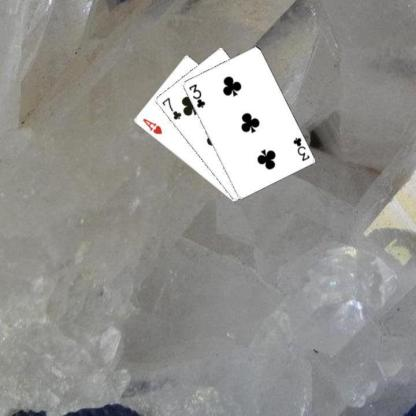3C: (290, 135, 311, 162), (186, 81, 206, 109)
7C: (159, 95, 182, 121)
AH: (140, 115, 163, 136)
